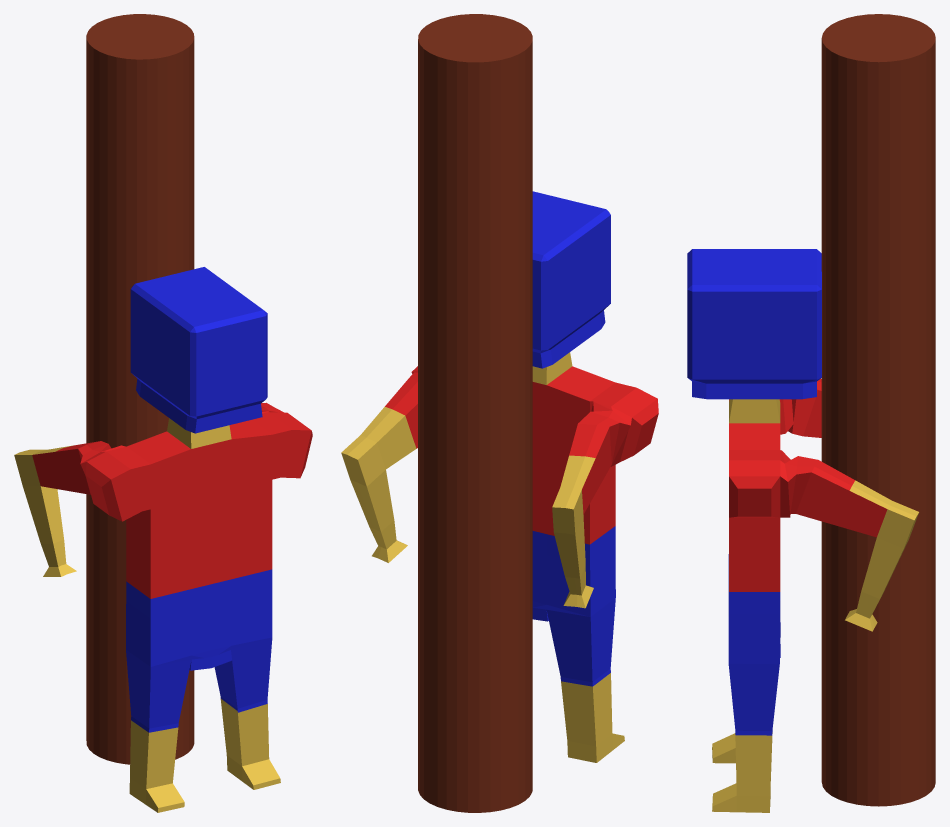
Rendered from Prisoner.fbx.
3 views of the same model, side by side, from view 1: azimuth 30°, elevation 25°; view 2: azimuth 150°, elevation 25°; view 3: azimuth 270°, elevation 25° (orthographic). The views are drawn at different scales.
Visible parts, largest first — view 1: Cube, Cylinder; view 2: Cylinder, Cube; view 3: Cylinder, Cube.
Part boxes in pixels (left/top/right/bottom): Cube: left=14, top=267, right=312, bottom=812; Cylinder: left=86, top=14, right=194, bottom=764; Cylinder: left=418, top=14, right=532, bottom=812; Cube: left=341, top=191, right=658, bottom=762; Cylinder: left=821, top=14, right=935, bottom=806; Cube: left=687, top=249, right=918, bottom=812.
Bounding box in the file's own units: 160 × 493 × 149.
